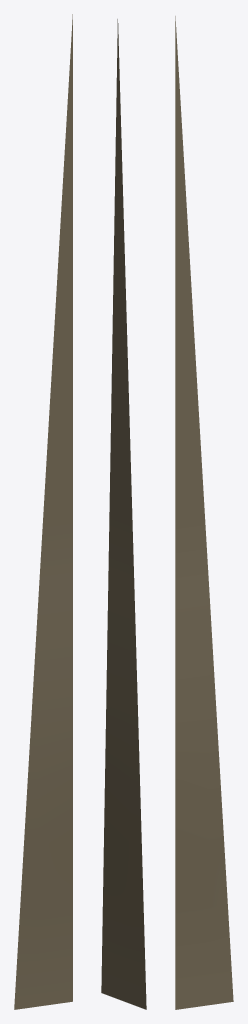
The picture shows the model from 3 angles, left to right: view 1: azimuth 90°, elevation 25°; view 2: azimuth 210°, elevation 25°; view 3: azimuth 270°, elevation 25°; orthographic projection. The views are drawn at different scales.
Bounding box in the file's own units: 0.00305 × 0.1719 × 0.00918.
1 material, 1 textured.
